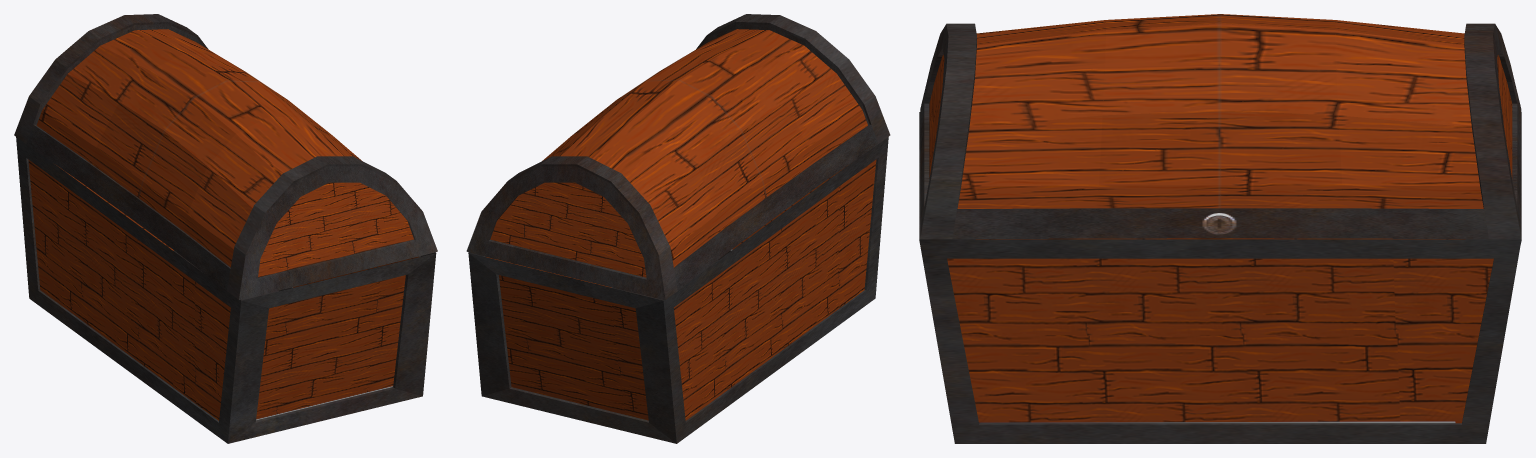
File: TreasureChest-RJ.gltf
3 renders of one model, left to right at view 1: azimuth 30°, elevation 25°; view 2: azimuth 150°, elevation 25°; view 3: azimuth 270°, elevation 25°, orthographic. The views are drawn at different scales.
Visible parts, largest first — view 1: Base; view 2: Base; view 3: Base.
Boxes of the visible parts, x1=… form: Base: x1=14, y1=14, x2=437, y2=443; Base: x1=466, y1=14, x2=890, y2=443; Base: x1=919, y1=14, x2=1521, y2=443.
Size of the model in its own units: 4.08 by 5.23 by 8.
Materials: 2 (2 with a texture image).
